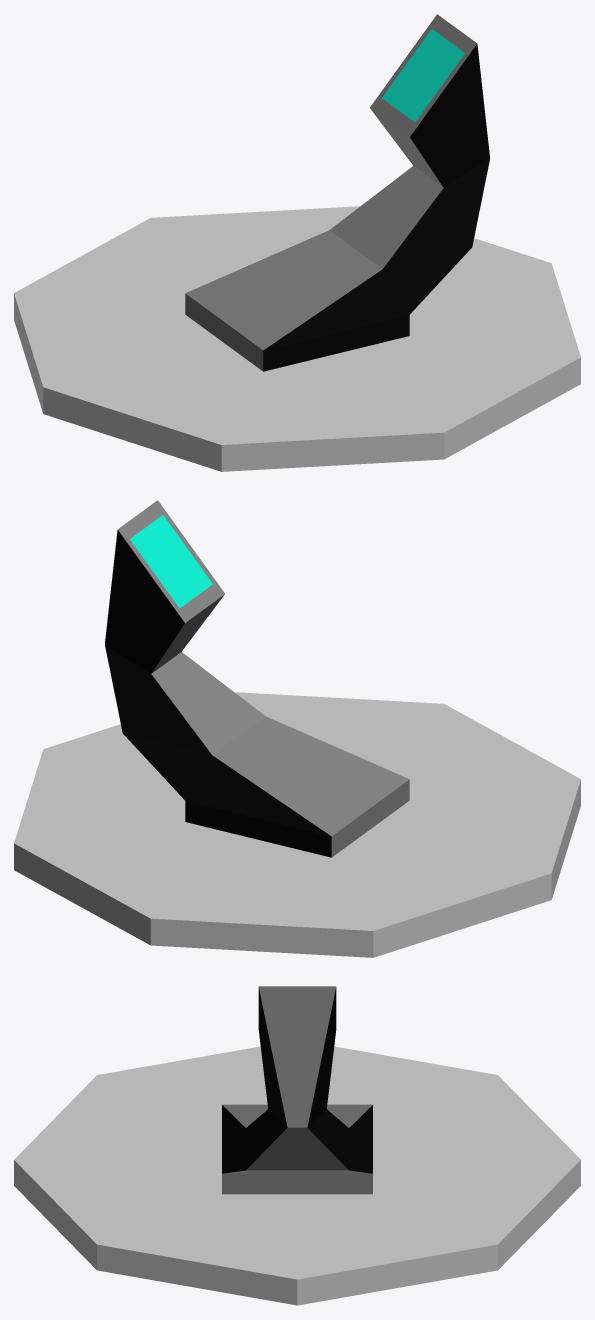
File: GloboTerrestre_Base.gltf
The picture shows the model from 3 angles, top to bottom: view 1: azimuth 30°, elevation 25°; view 2: azimuth 150°, elevation 25°; view 3: azimuth 270°, elevation 25°; orthographic projection. The views are drawn at different scales.
Visible parts, largest first — view 1: BaseGloboTerrestre; view 2: BaseGloboTerrestre; view 3: BaseGloboTerrestre.
Boxes of the visible parts, box(x1,y1,x2,y2) form: BaseGloboTerrestre: box(14, 14, 580, 471); BaseGloboTerrestre: box(14, 500, 580, 957); BaseGloboTerrestre: box(14, 986, 580, 1305).
Size of the model in its own units: 1.98 by 1.06 by 1.98.
Materials: 1 (1 with a texture image).
